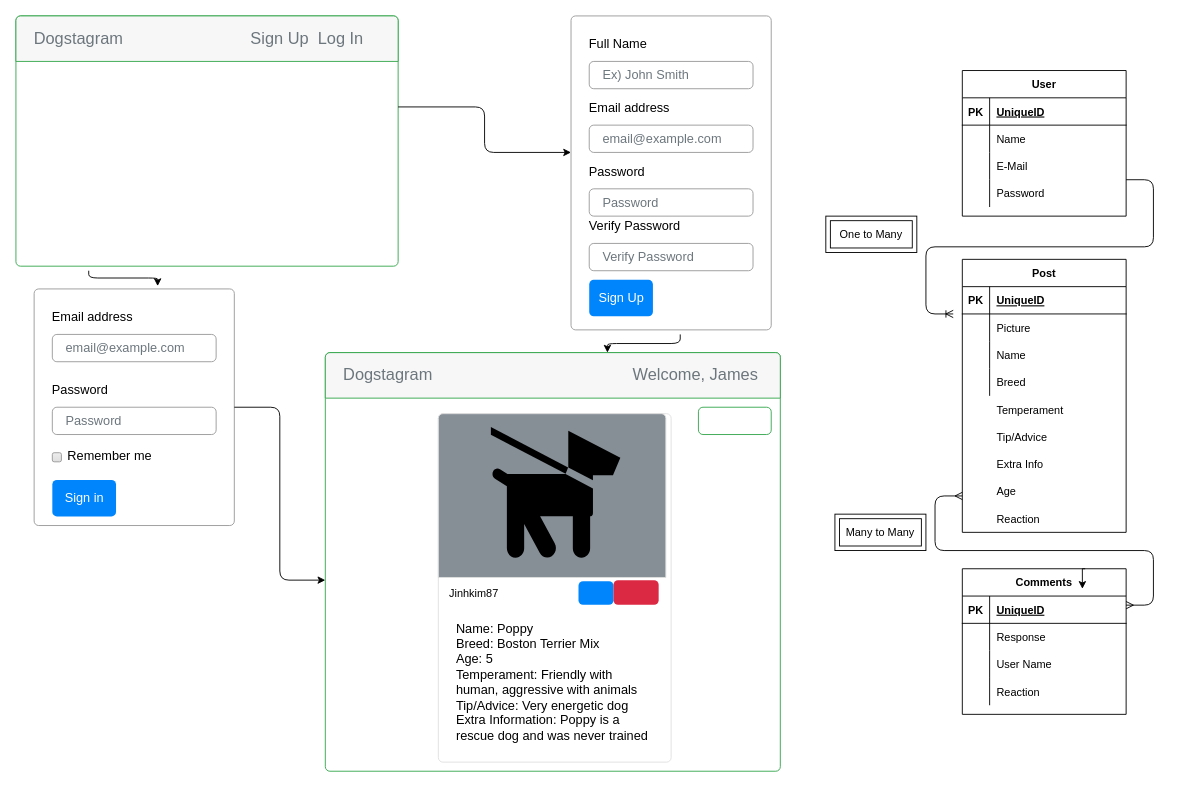
This 1178x787 diagram has some shape labels left out. Here are the shapes that lost their labels. From the top down, the centre of each, then its label:
At (x=206, y=140): "Come, Share, and Learn about your favorite furry friend".
At (x=734, y=420): "New Post".
At (x=595, y=592): "Edit".
At (x=635, y=592): "Delete".
